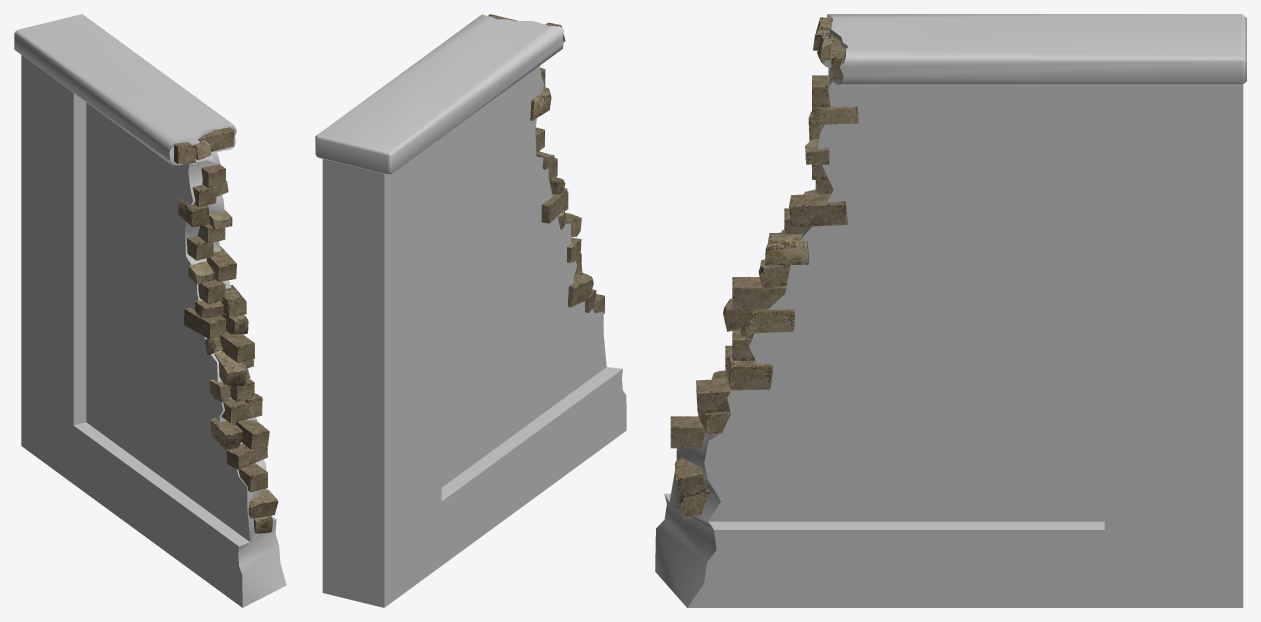
Rendered from Wall1_el6.fbx.
3 renders of one model, left to right at view 1: azimuth 30°, elevation 25°; view 2: azimuth 150°, elevation 25°; view 3: azimuth 270°, elevation 25°, orthographic. The views are drawn at different scales.
Visible parts, largest first — view 1: polySurface207; view 2: polySurface207; view 3: polySurface207.
Part boxes in pixels (x1,y1,x2,y2): polySurface207: (14,14,286,607); polySurface207: (315,14,626,607); polySurface207: (655,14,1246,607).
Size of the model in its own units: 0.5617 by 3.15 by 3.05.
